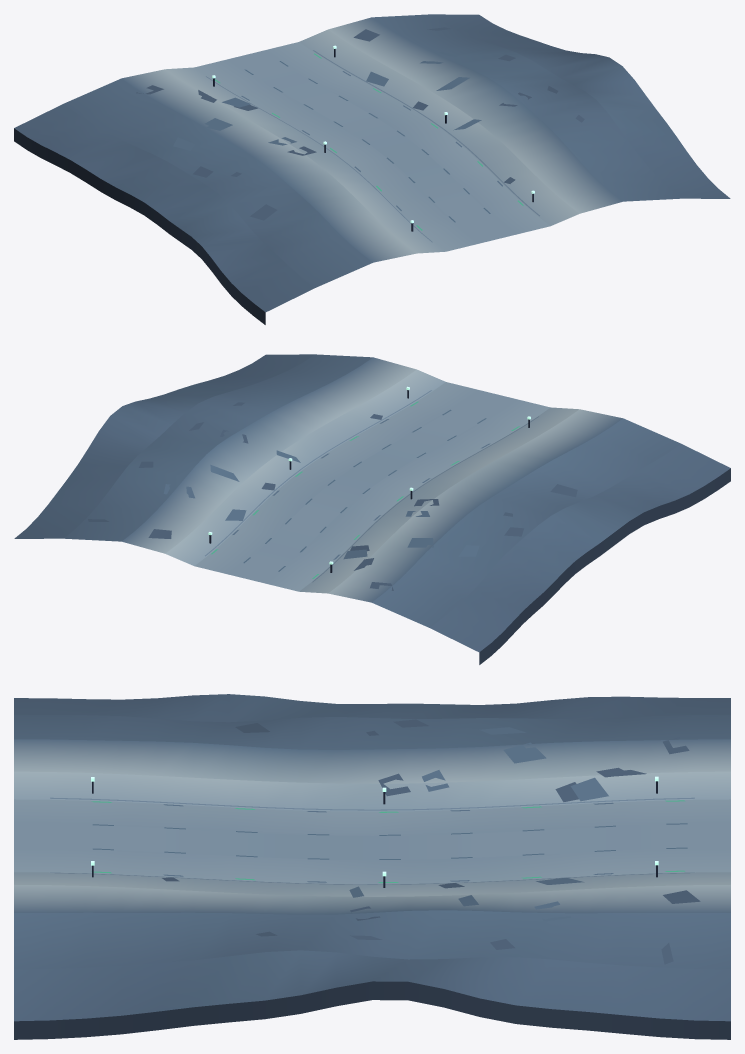
Rendered from 02-gentle_turn.glb.
3 views of the same model, one above another, from view 1: azimuth 30°, elevation 25°; view 2: azimuth 150°, elevation 25°; view 3: azimuth 270°, elevation 25° (orthographic). The views are drawn at different scales.
Parts seen in each view (by area): view 1: gentle_turn; view 2: gentle_turn; view 3: gentle_turn.
Part boxes in pixels (x1,y1,x2,y2): gentle_turn: (14, 14, 730, 324); gentle_turn: (14, 354, 730, 664); gentle_turn: (14, 694, 730, 1039).
Size of the model in its own units: 33.2 by 3.26 by 30.
